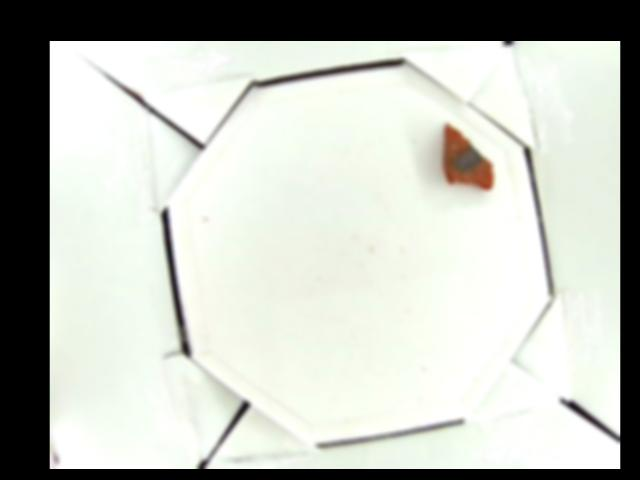Brisk: (445, 122, 493, 189)
